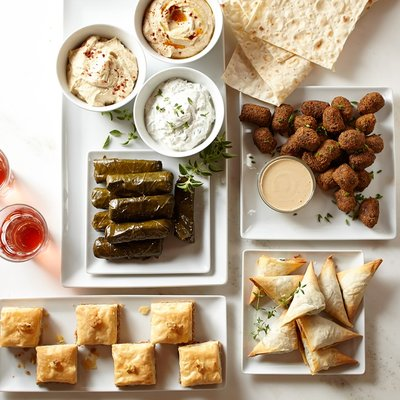soup: (294, 313, 363, 375), (178, 340, 224, 387)
sushi: (56, 23, 148, 115), (132, 67, 225, 158), (133, 0, 223, 66), (257, 155, 316, 214)
